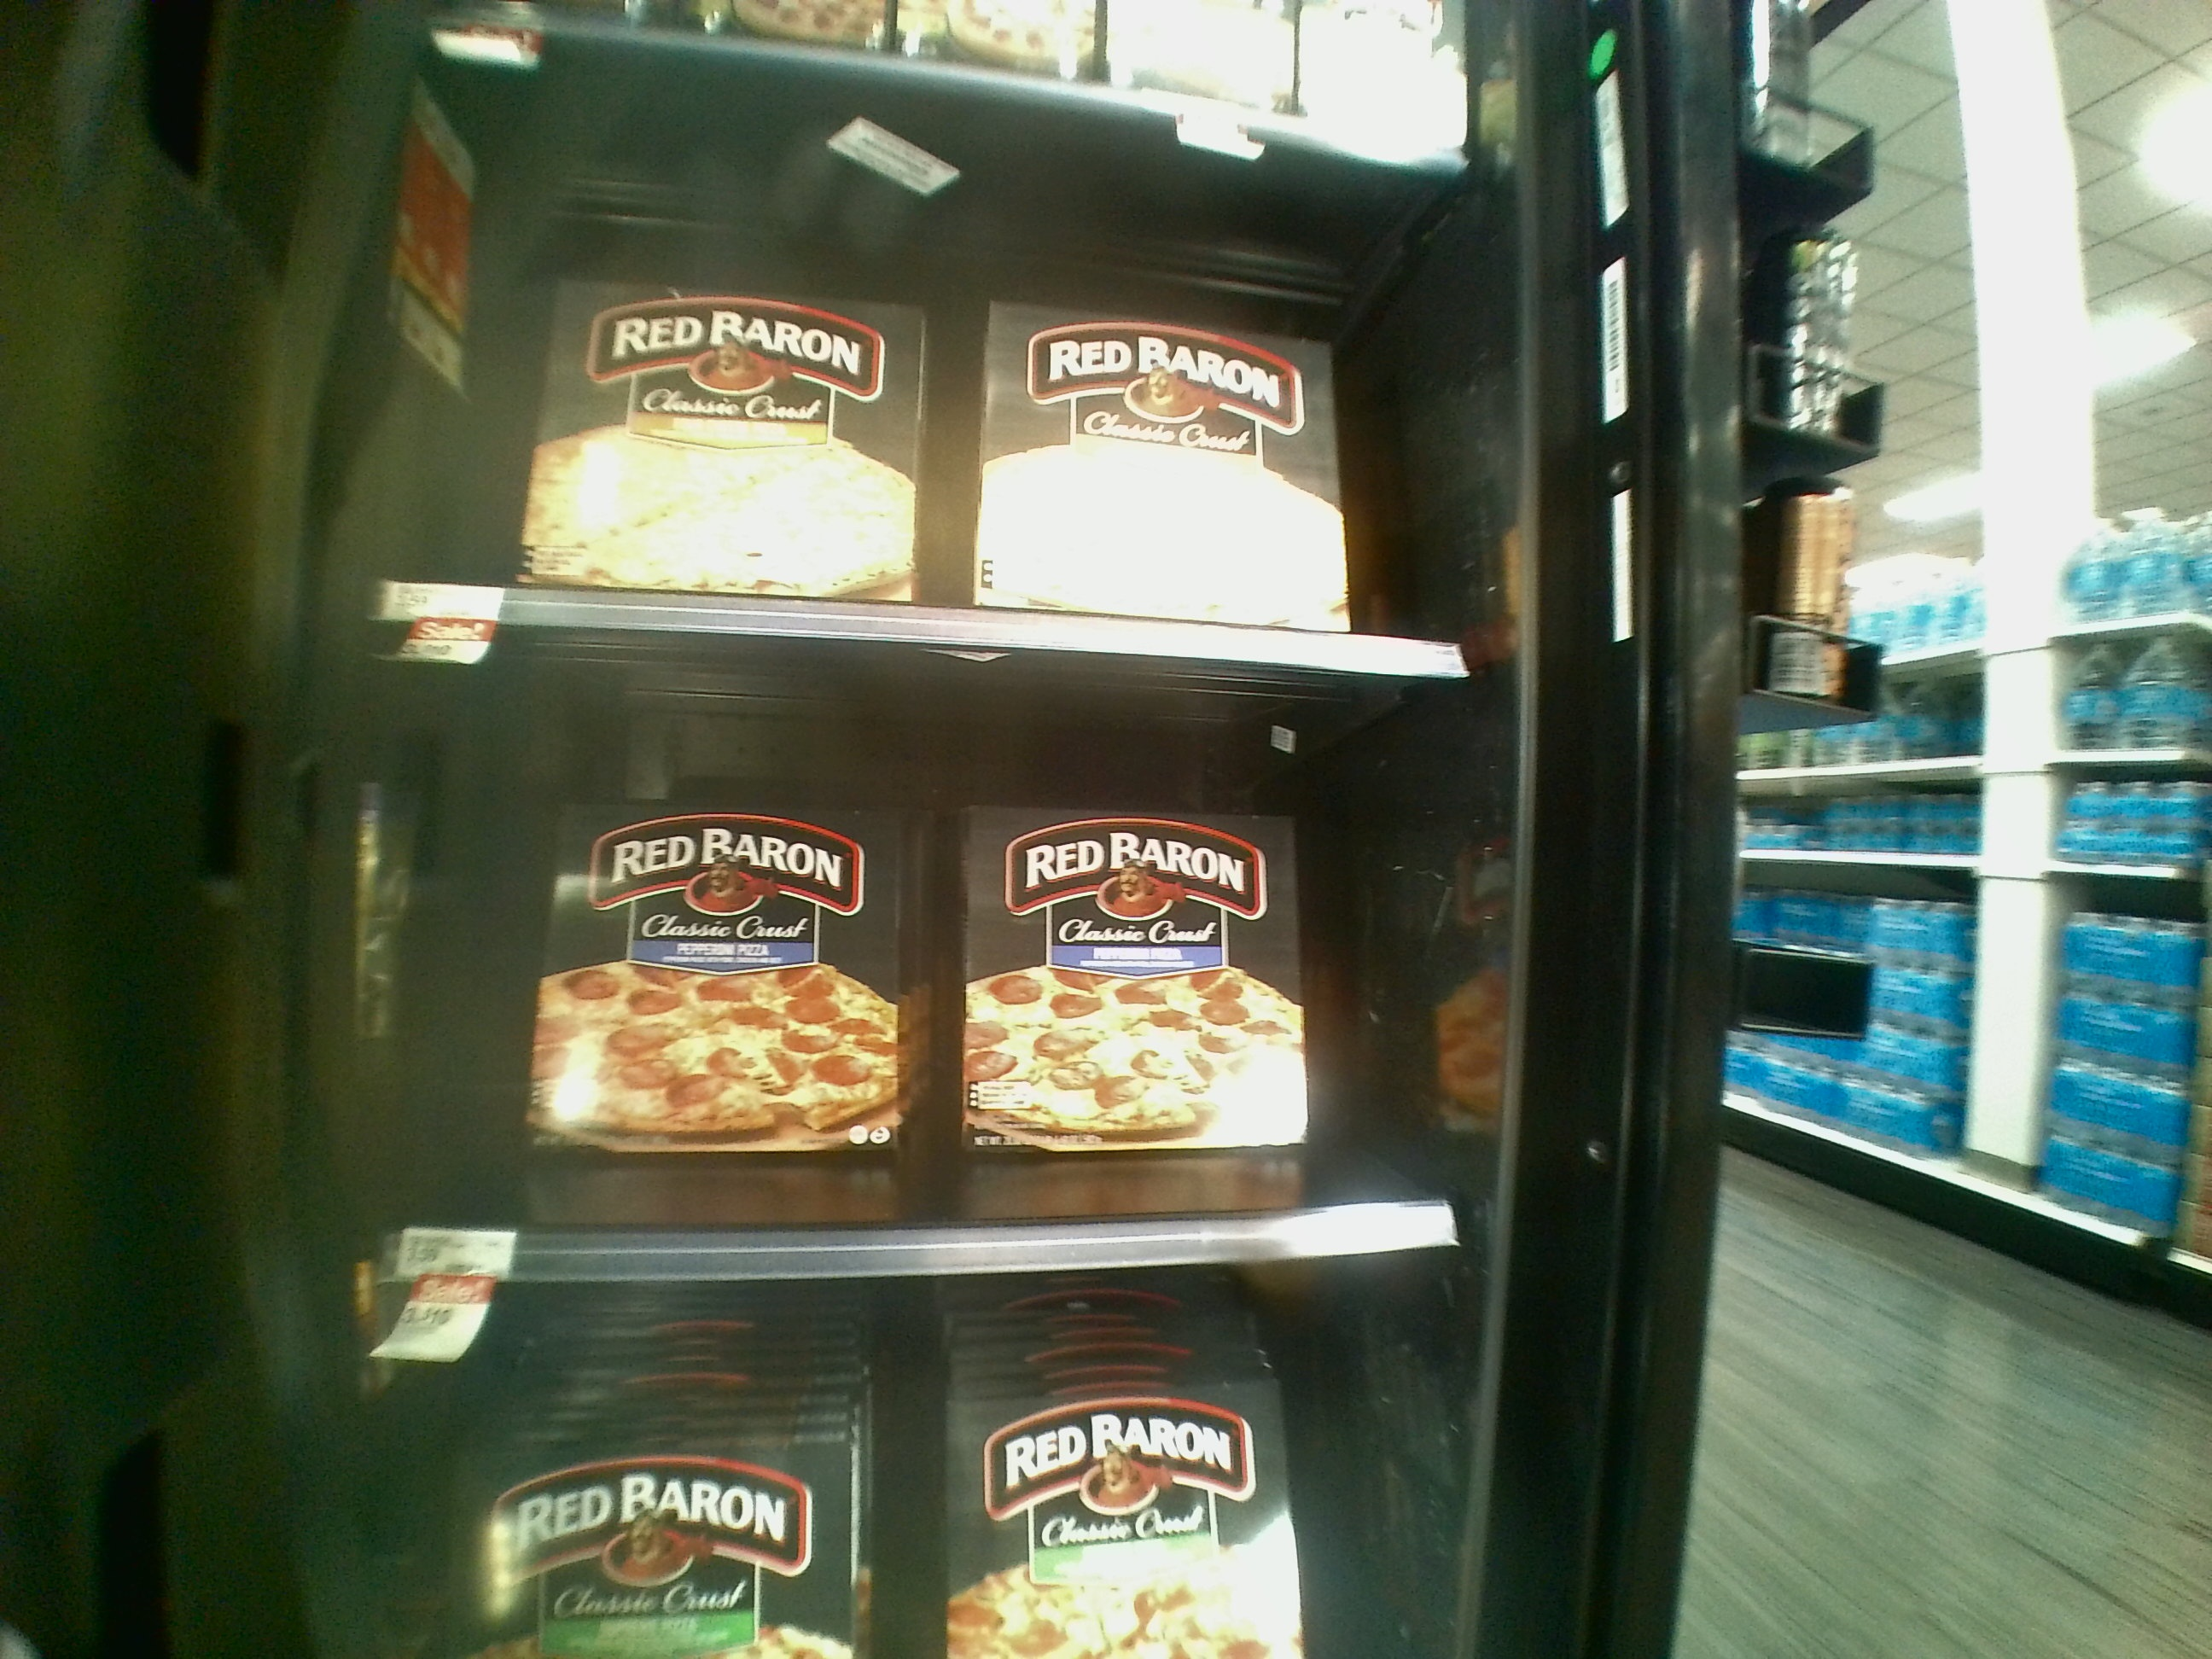shelf: (369, 676, 1491, 1284), (381, 160, 1496, 660)
